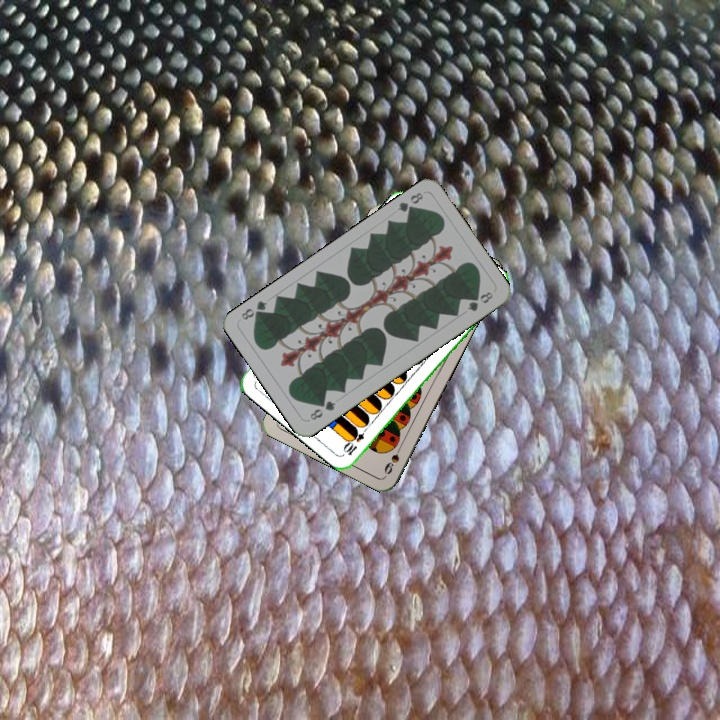E10: (340, 421, 371, 458)
G8: (394, 188, 426, 217), (306, 397, 338, 423)
S9: (380, 440, 405, 477)
